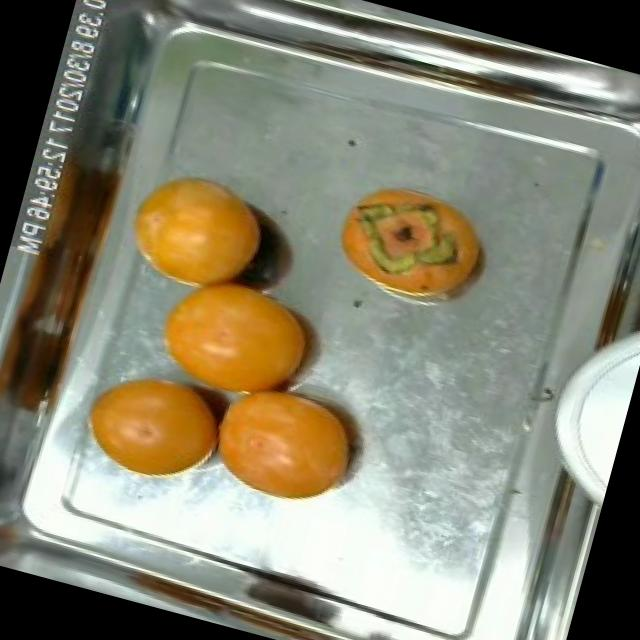Fruit: (136, 246, 338, 419), (189, 362, 380, 524), (61, 346, 248, 504), (318, 164, 504, 318), (109, 154, 288, 313)
